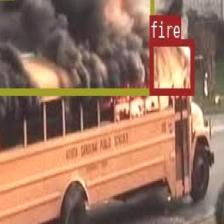fire: (149, 38, 194, 94)
smoke: (0, 0, 153, 94)
